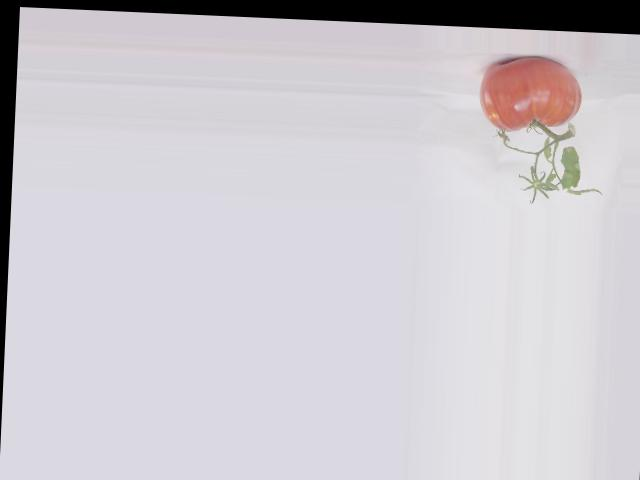tomato: (477, 54, 583, 134)
